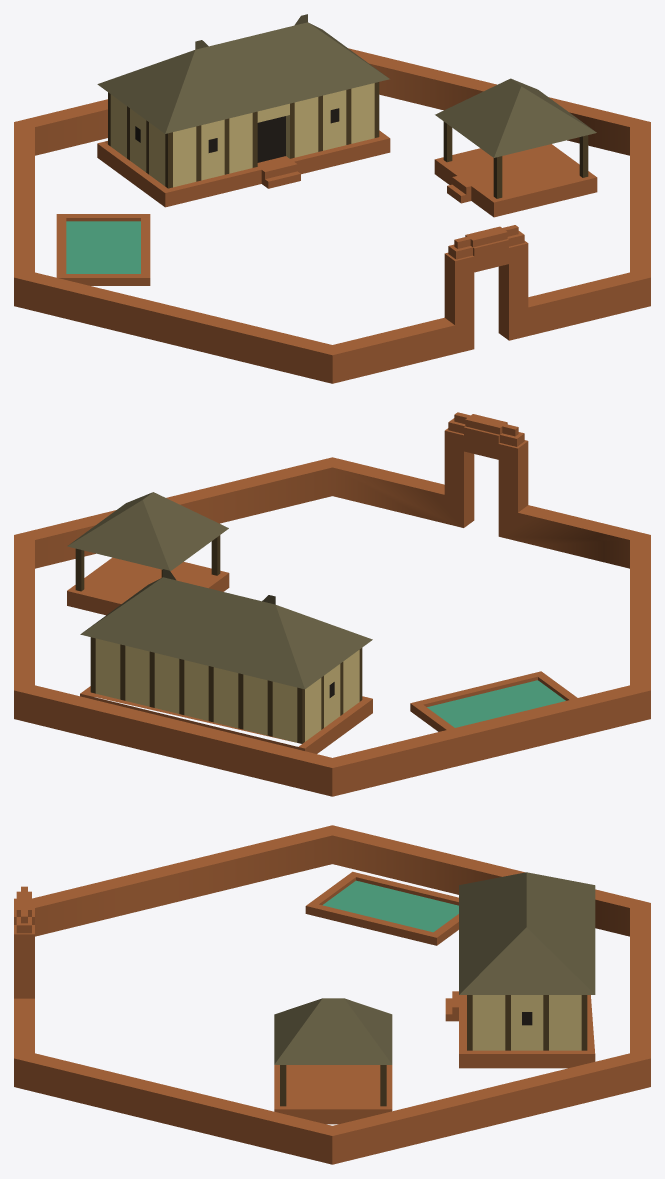
The model's file is MJ_Building_House_T2_v2.fbx.
3 views of the same model, one above another, from view 1: azimuth 30°, elevation 25°; view 2: azimuth 150°, elevation 25°; view 3: azimuth 270°, elevation 25° (orthographic).
Parts seen in each view (by area): view 1: Model, Group1, Group2; view 2: Model, Group1, Group2; view 3: Model, Group1, Group2.
Part boxes in pixels (x1,y1,x2,y2): Model: [14, 48, 650, 383]; Group1: [97, 14, 390, 207]; Group2: [434, 78, 597, 217]; Model: [14, 412, 650, 796]; Group1: [80, 569, 372, 753]; Group2: [67, 492, 229, 615]; Model: [14, 825, 650, 1164]; Group1: [445, 872, 595, 1068]; Group2: [274, 998, 392, 1124].
Bounding box in the file's own units: 5.82 × 1.1 × 5.04.
